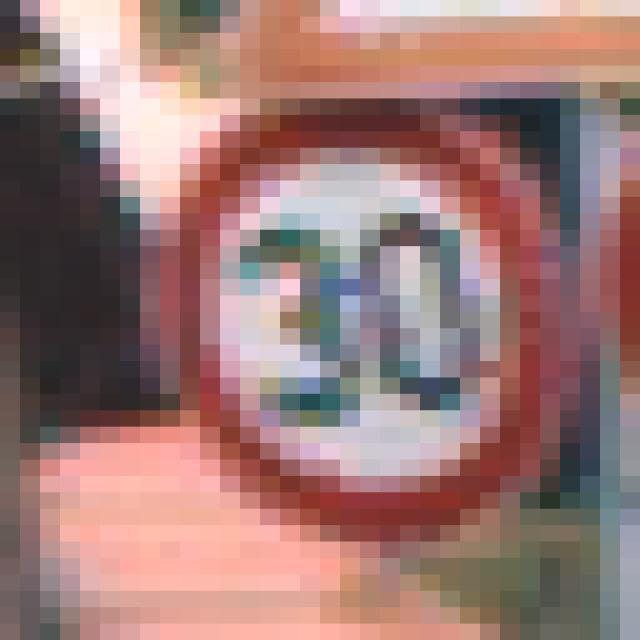Speed Limit -30-: (90, 90, 510, 550)
